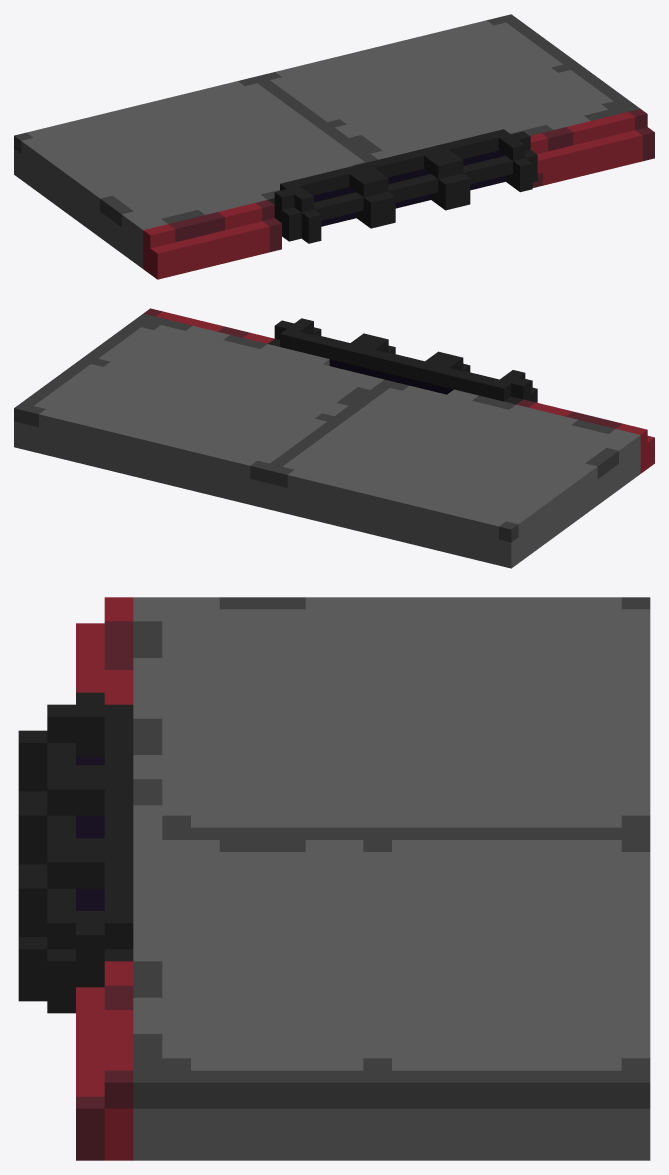
The model's file is Path1.obj.
3 renders of one model, top to bottom at view 1: azimuth 30°, elevation 25°; view 2: azimuth 150°, elevation 25°; view 3: azimuth 270°, elevation 25°, orthographic. The views are drawn at different scales.
Size of the model in its own units: 4 by 0.4 by 2.2.
Materials: 1 (1 with a texture image).
